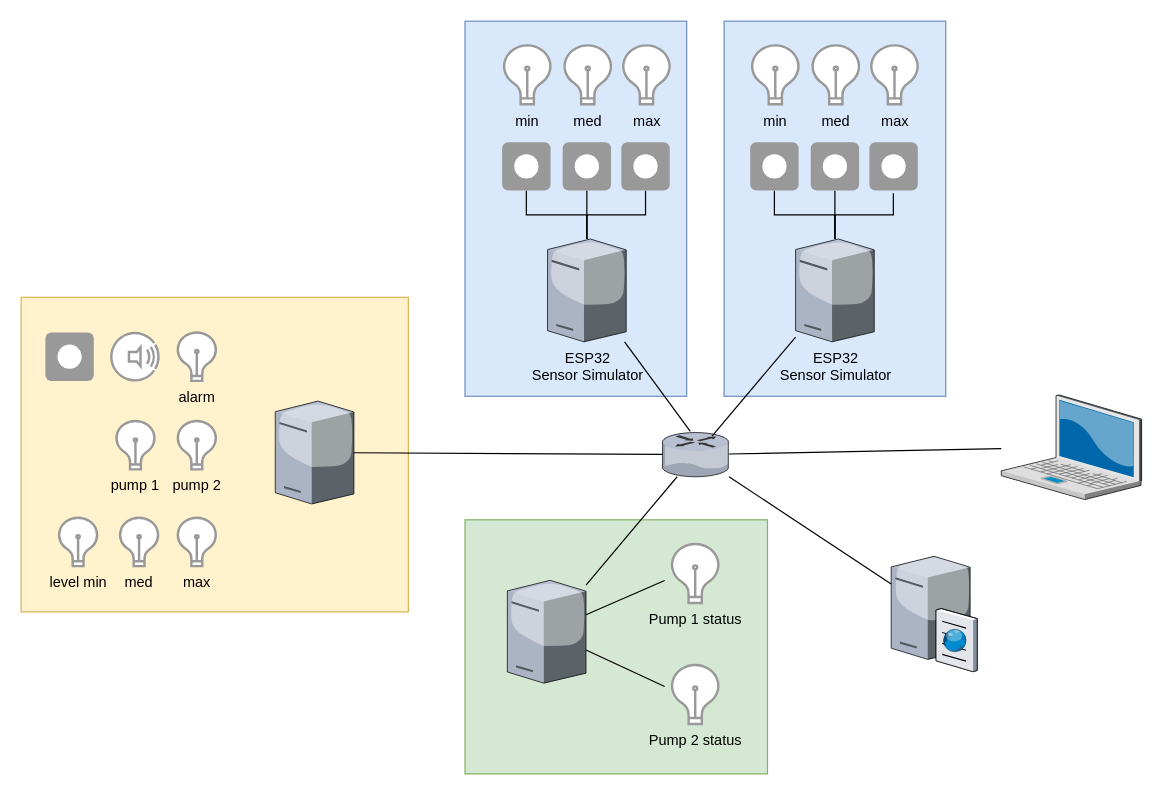
Image size: 1163x796. Some labels were removed from this diagram. Here are the shapes that lost their labels. From the top down, the centre of each, then its label:
At (x=314, y=452): "ESP32 Remote Status Station".
At (x=1071, y=446): "HTTP Client".
At (x=546, y=631): "ESP32 Control Unit".
At (x=933, y=612): "Raspberry Web Server".
